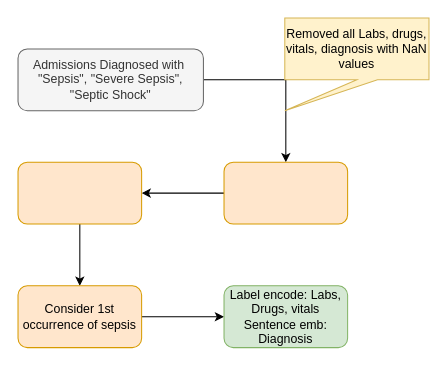
The diagram is 447 pixels wide and 366 high, and some of its shapes have lost their labels. Each missing label, with the box of its shape:
Consider first 24,48,72 hours data: (17, 161, 142, 224)
Considered only the Admissions between the ages of 18-90 years (excluding): (223, 161, 348, 224)
